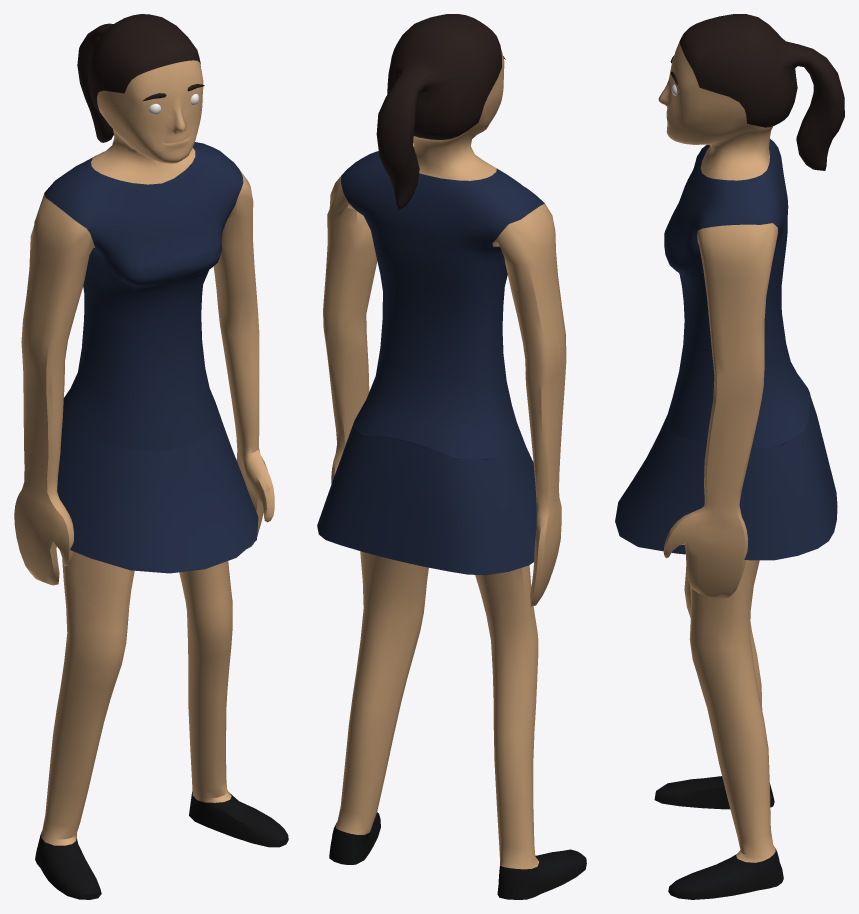
File: smooth_female_dress.glb
The picture shows the model from 3 angles, left to right: view 1: azimuth 30°, elevation 25°; view 2: azimuth 150°, elevation 25°; view 3: azimuth 270°, elevation 25°; orthographic projection. The views are drawn at different scales.
Parts seen in each view (by area): view 1: SmoothFemaleDress; view 2: SmoothFemaleDress; view 3: SmoothFemaleDress.
Boxes of the visible parts, x1=… form: SmoothFemaleDress: x1=14, y1=14, x2=288, y2=899; SmoothFemaleDress: x1=317, y1=14, x2=586, y2=899; SmoothFemaleDress: x1=615, y1=14, x2=844, y2=899.
Size of the model in its own units: 0.5303 by 1.8 by 0.4557.
